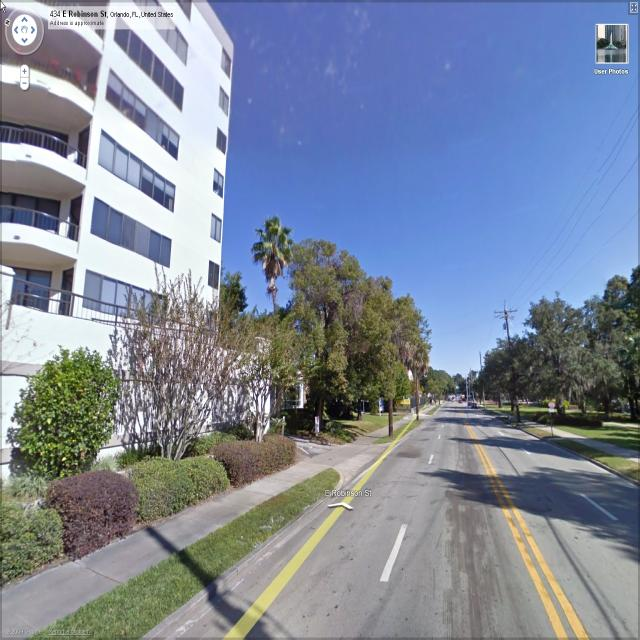b_1: (4, 6, 250, 315)
b_2: (0, 3, 290, 440)
